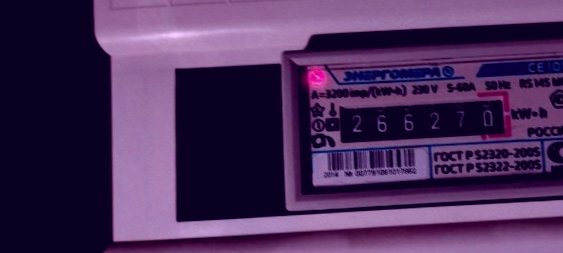0: (480, 106, 493, 127)
2: (349, 111, 364, 132), (428, 108, 440, 130)
6: (375, 112, 389, 132), (401, 110, 414, 130)
7: (453, 107, 466, 129)
screen: (329, 86, 518, 151)
